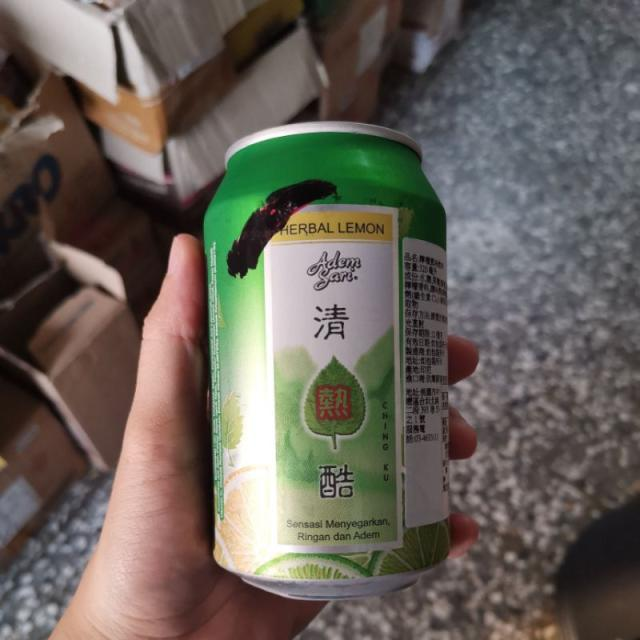ademsarikaleng: (201, 118, 452, 600)
